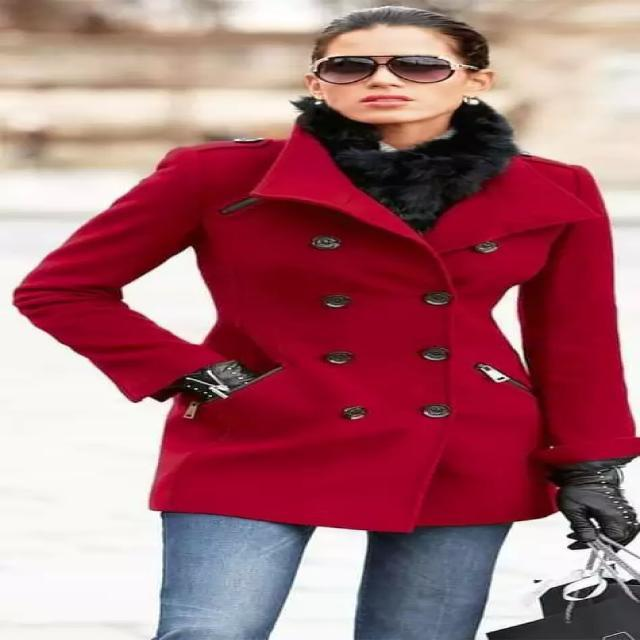coat: (8, 104, 639, 541)
trousers: (151, 499, 514, 640)
